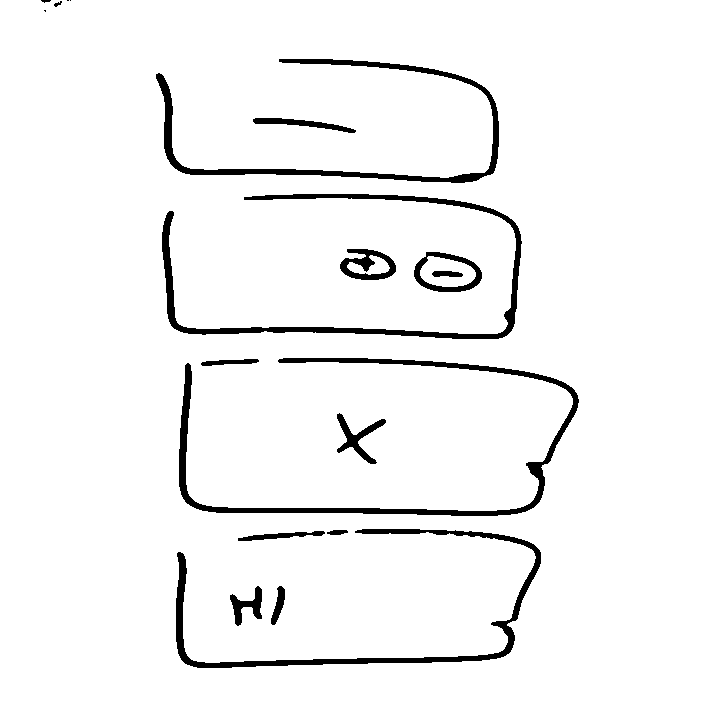button: (151, 52, 509, 187)
heading1: (166, 526, 545, 672)
inline stepper bar: (158, 191, 528, 344)
picture: (170, 354, 582, 521)
